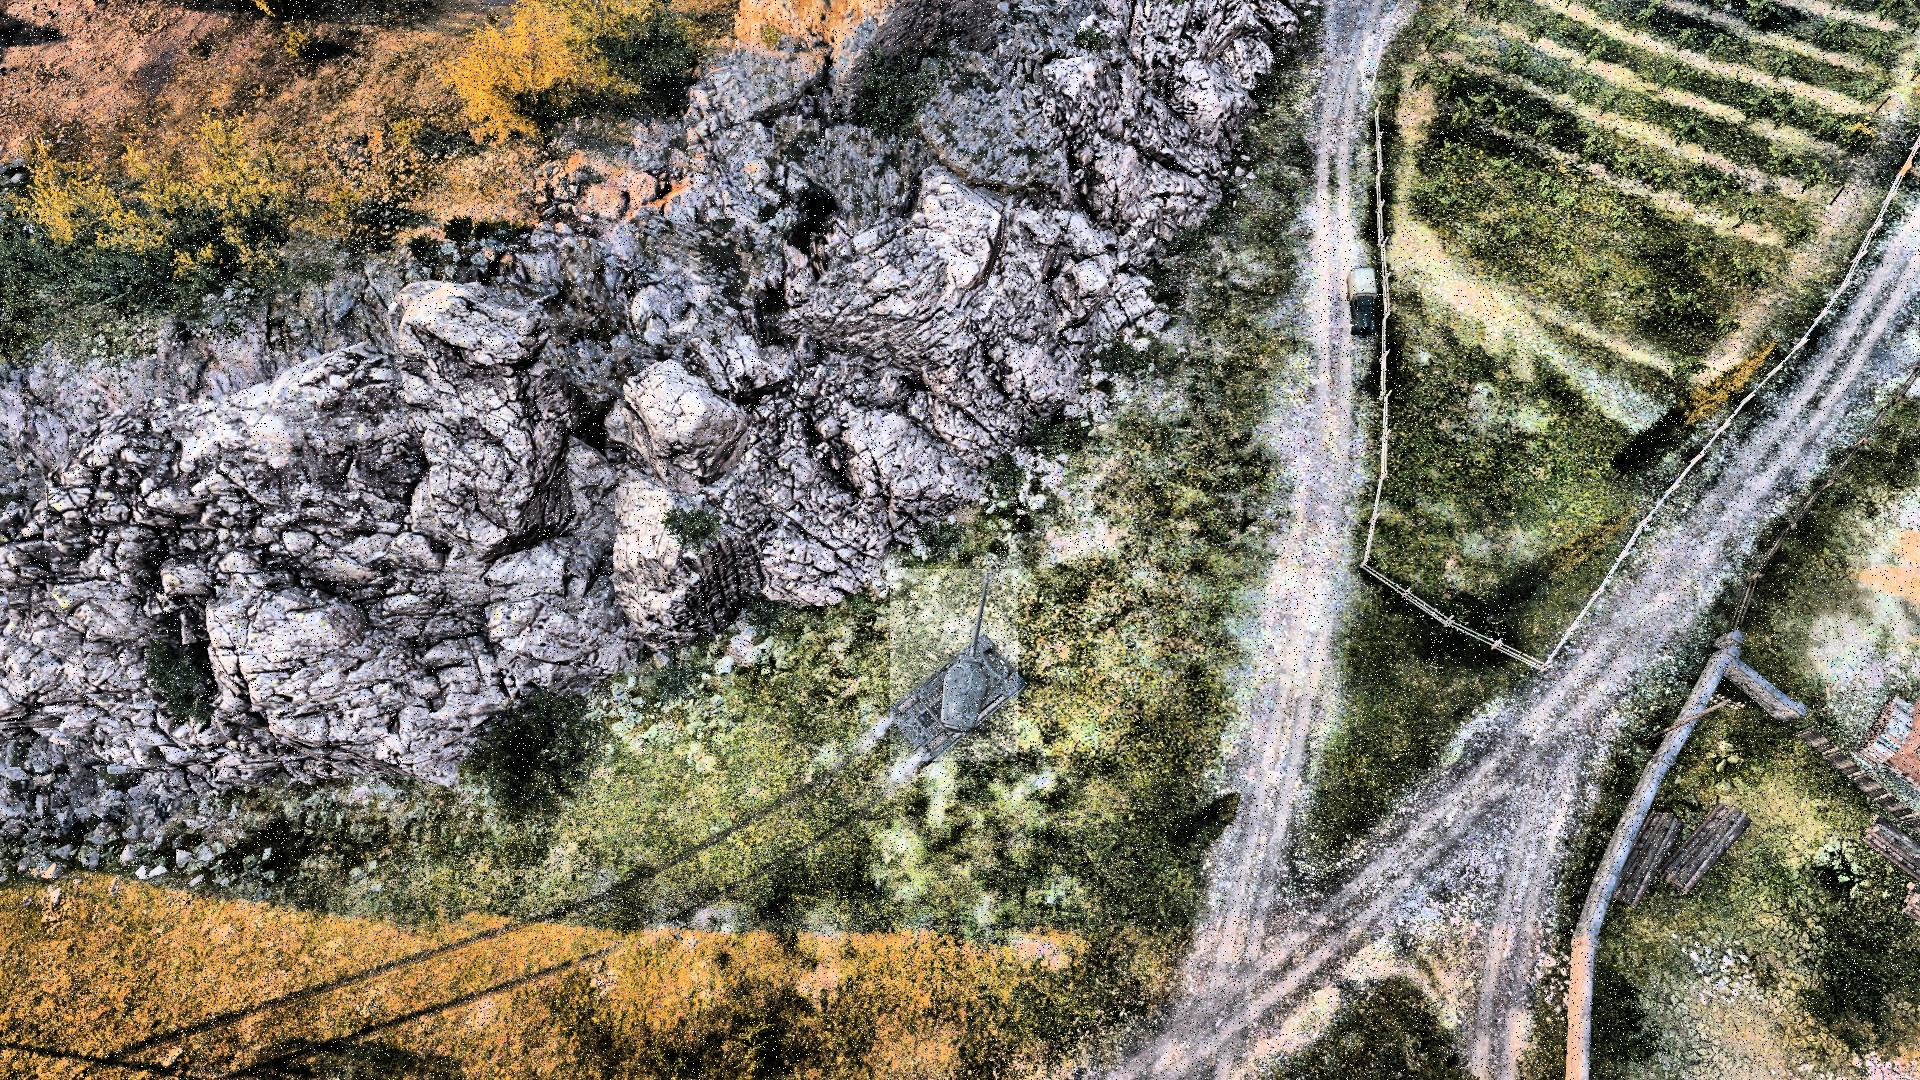military-vehicle: (890, 570, 1018, 762)
